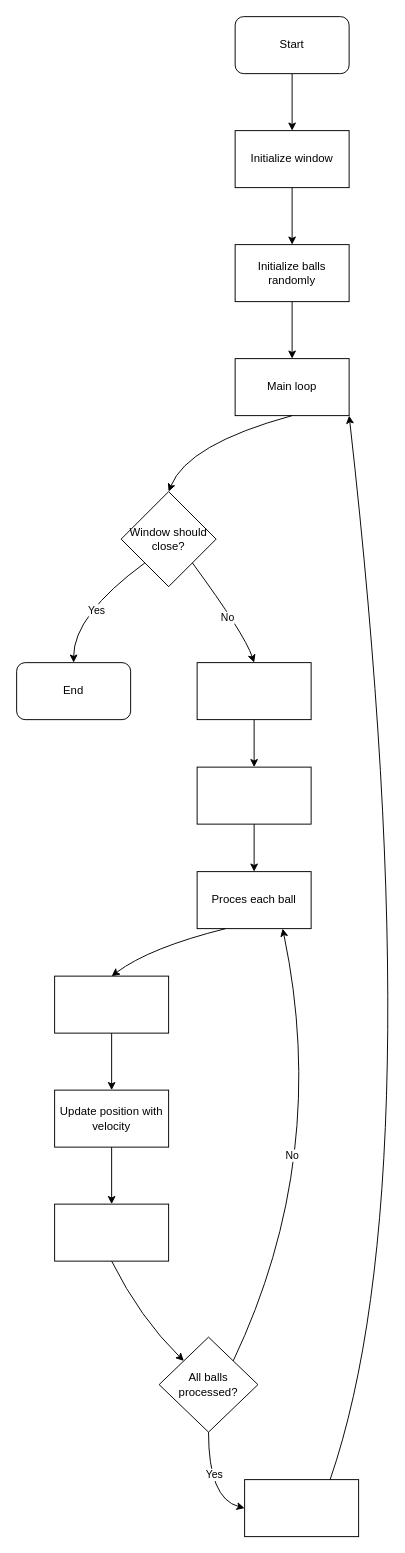
Some shapes in this 405 by 1553 pixel diagram are drawn without their labels. The shapes that lost their labels are listed below. From the top down, each one's box as (x1, y1, x2, y2) in pixels, then its label:
(196, 662, 311, 720): Begin drawing
(196, 766, 311, 824): Clear background
(54, 975, 169, 1033): Update velocity to follow leader
(54, 1203, 169, 1261): Draw ball on screen
(244, 1479, 359, 1537): Drawing end
